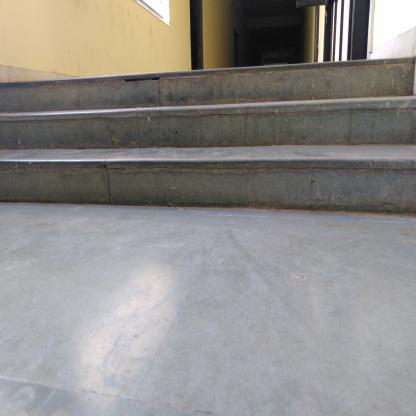stairs: (1, 56, 416, 226)
